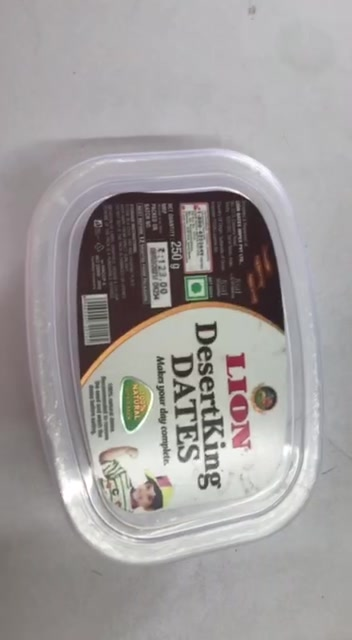Lion dates: (28, 148, 325, 563)
